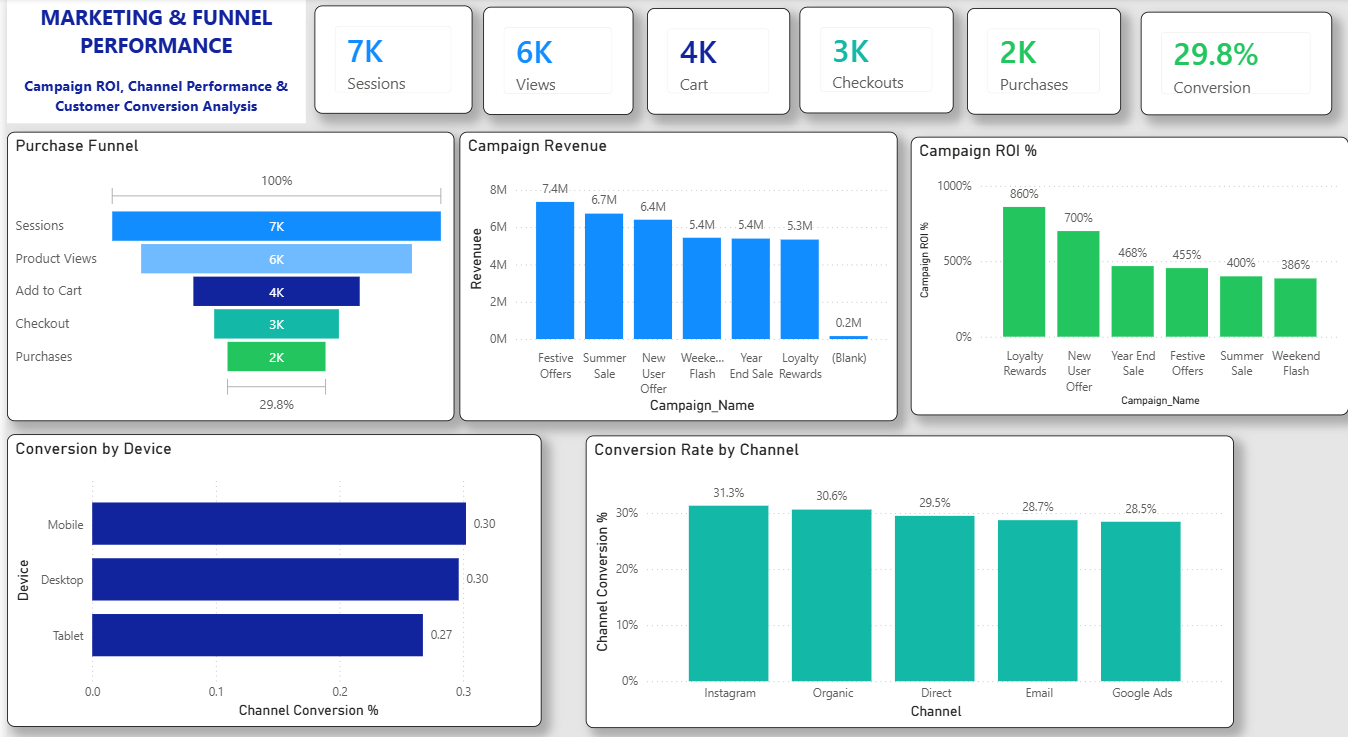

Layout of this report page (visuals, bound fields, positions):
{"tool":"powerbi","page":{"name":"📈 Marketing & Funnel","canvas":[1380,767],"ordinal":3},"visuals":[{"type":"textbox","box":[0,0,306.8,129.1],"z":0},{"type":"cardVisual","fields":{"Data":["Campaign_Performance.Total Sessions"]},"box":[315.8,7.7,162.4,111.2],"z":1000},{"type":"cardVisual","fields":{"Data":["Campaign_Performance.Product Views"]},"box":[489.7,8.9,154.7,111.2],"z":2000},{"type":"cardVisual","fields":{"Data":["Campaign_Performance.Add to Cart"]},"box":[658.4,10.2,147,110],"z":3000},{"type":"cardVisual","fields":{"Data":["Campaign_Performance.Checkouts"]},"box":[814.4,8.9,158.5,110],"z":4000},{"type":"cardVisual","fields":{"Data":["Campaign_Performance.Purchases"]},"box":[987,10.2,158.5,110],"z":5000},{"type":"cardVisual","fields":{"Data":["Campaign_Performance.Conversion Rate %"]},"box":[1166,14.1,196.9,106.1],"z":6000},{"type":"funnel","title":"Purchase Funnel","fields":{"Category":["FunnelStages.Stage"],"Y":["FunnelStages.Funnel Count"]},"box":[0,138.1,460.3,297.9],"z":7000},{"type":"clusteredColumnChart","title":"Campaign Revenue","fields":{"Category":["Campaign_Performance.Campaign_Name"],"Y":["Orders.Revenuee"]},"box":[465.4,138.1,450,297.9],"z":8000},{"type":"clusteredColumnChart","title":"Campaign ROI %","fields":{"Category":["Campaign_Performance.Campaign_Name"],"Y":["Campaign_Performance.Campaign ROI %"]},"box":[929.5,143.2,450,286.4],"z":9000},{"type":"clusteredColumnChart","title":"Conversion Rate by Channel","fields":{"Category":["Website_Funnel.Channel"],"Y":["Website_Funnel.Channel Conversion %"]},"box":[595.5,449.7,666.1,300.4],"z":10000},{"type":"clusteredBarChart","title":"Conversion by Device","fields":{"Category":["Website_Funnel.Device"],"Y":["Website_Funnel.Channel Conversion %"]},"box":[0,448.8,549.8,300.4],"z":11000}]}

Visuals, with their boxes in screenshot pixels (x1, y1, x2, y2), scaled from the page's 1380x767 canvas onto the 1348x737 screenshot:
textbox: BBox(0, 0, 300, 124)
cardVisual - Campaign_Performance.Total Sessions: BBox(308, 7, 467, 114)
cardVisual - Campaign_Performance.Product Views: BBox(478, 9, 629, 115)
cardVisual - Campaign_Performance.Add to Cart: BBox(643, 10, 787, 115)
cardVisual - Campaign_Performance.Checkouts: BBox(796, 9, 950, 114)
cardVisual - Campaign_Performance.Purchases: BBox(964, 10, 1119, 115)
cardVisual - Campaign_Performance.Conversion Rate %: BBox(1139, 14, 1331, 115)
"Purchase Funnel" funnel: BBox(0, 133, 450, 419)
"Campaign Revenue" clusteredColumnChart: BBox(455, 133, 894, 419)
"Campaign ROI %" clusteredColumnChart: BBox(908, 138, 1347, 413)
"Conversion Rate by Channel" clusteredColumnChart: BBox(582, 432, 1232, 721)
"Conversion by Device" clusteredBarChart: BBox(0, 431, 537, 720)
